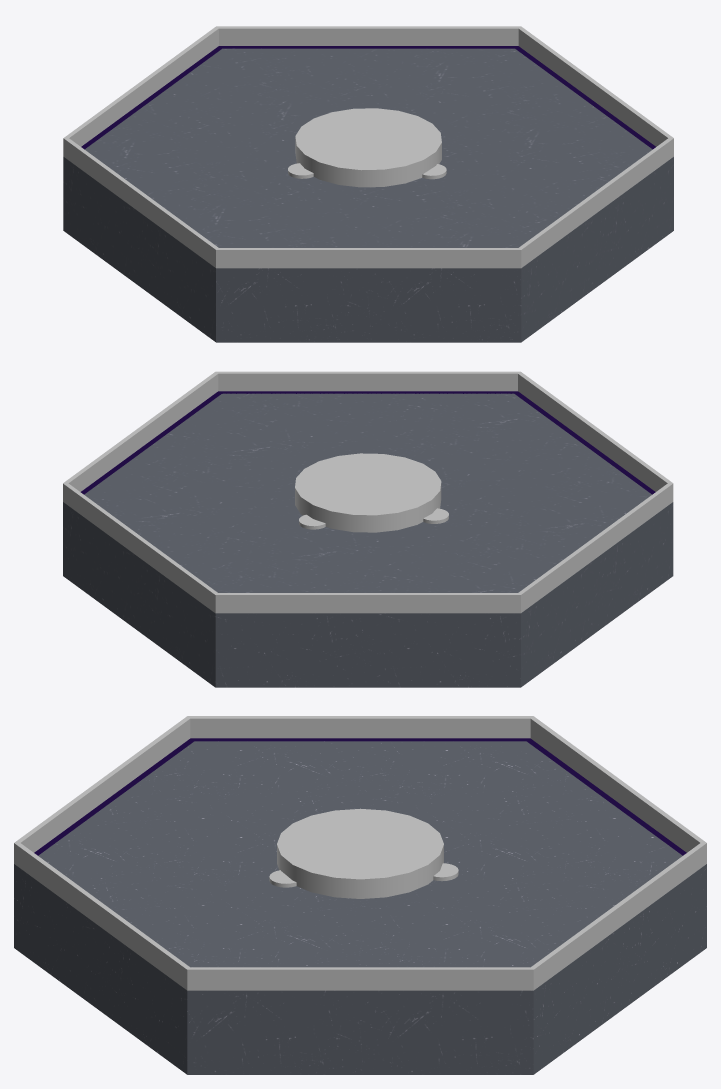
File: Battle_Stage 16.fbx
The picture shows the model from 3 angles, top to bottom: view 1: azimuth 30°, elevation 25°; view 2: azimuth 150°, elevation 25°; view 3: azimuth 270°, elevation 25°; orthographic projection. The views are drawn at different scales.
Visible parts, largest first — view 1: hexa_platform.003, hexa_platform.004, Cylinder_Visual, hexa_platform.005; view 2: hexa_platform.003, hexa_platform.004, Cylinder_Visual, hexa_platform.005; view 3: hexa_platform.003, hexa_platform.004, Cylinder_Visual, hexa_platform.005.
Boxes of the visible parts, box(x1,y1,x2,y2) form: hexa_platform.003: box(63, 48, 673, 342); hexa_platform.004: box(63, 26, 673, 268); Cylinder_Visual: box(295, 108, 441, 187); hexa_platform.005: box(81, 46, 655, 149); hexa_platform.003: box(63, 393, 673, 687); hexa_platform.004: box(63, 371, 673, 613); Cylinder_Visual: box(295, 453, 441, 532); hexa_platform.005: box(80, 391, 655, 494); hexa_platform.003: box(14, 741, 706, 1074); hexa_platform.004: box(14, 716, 706, 990); Cylinder_Visual: box(277, 808, 443, 898); hexa_platform.005: box(34, 738, 686, 855).
Size of the model in its own units: 6789 by 1248 by 7460.
